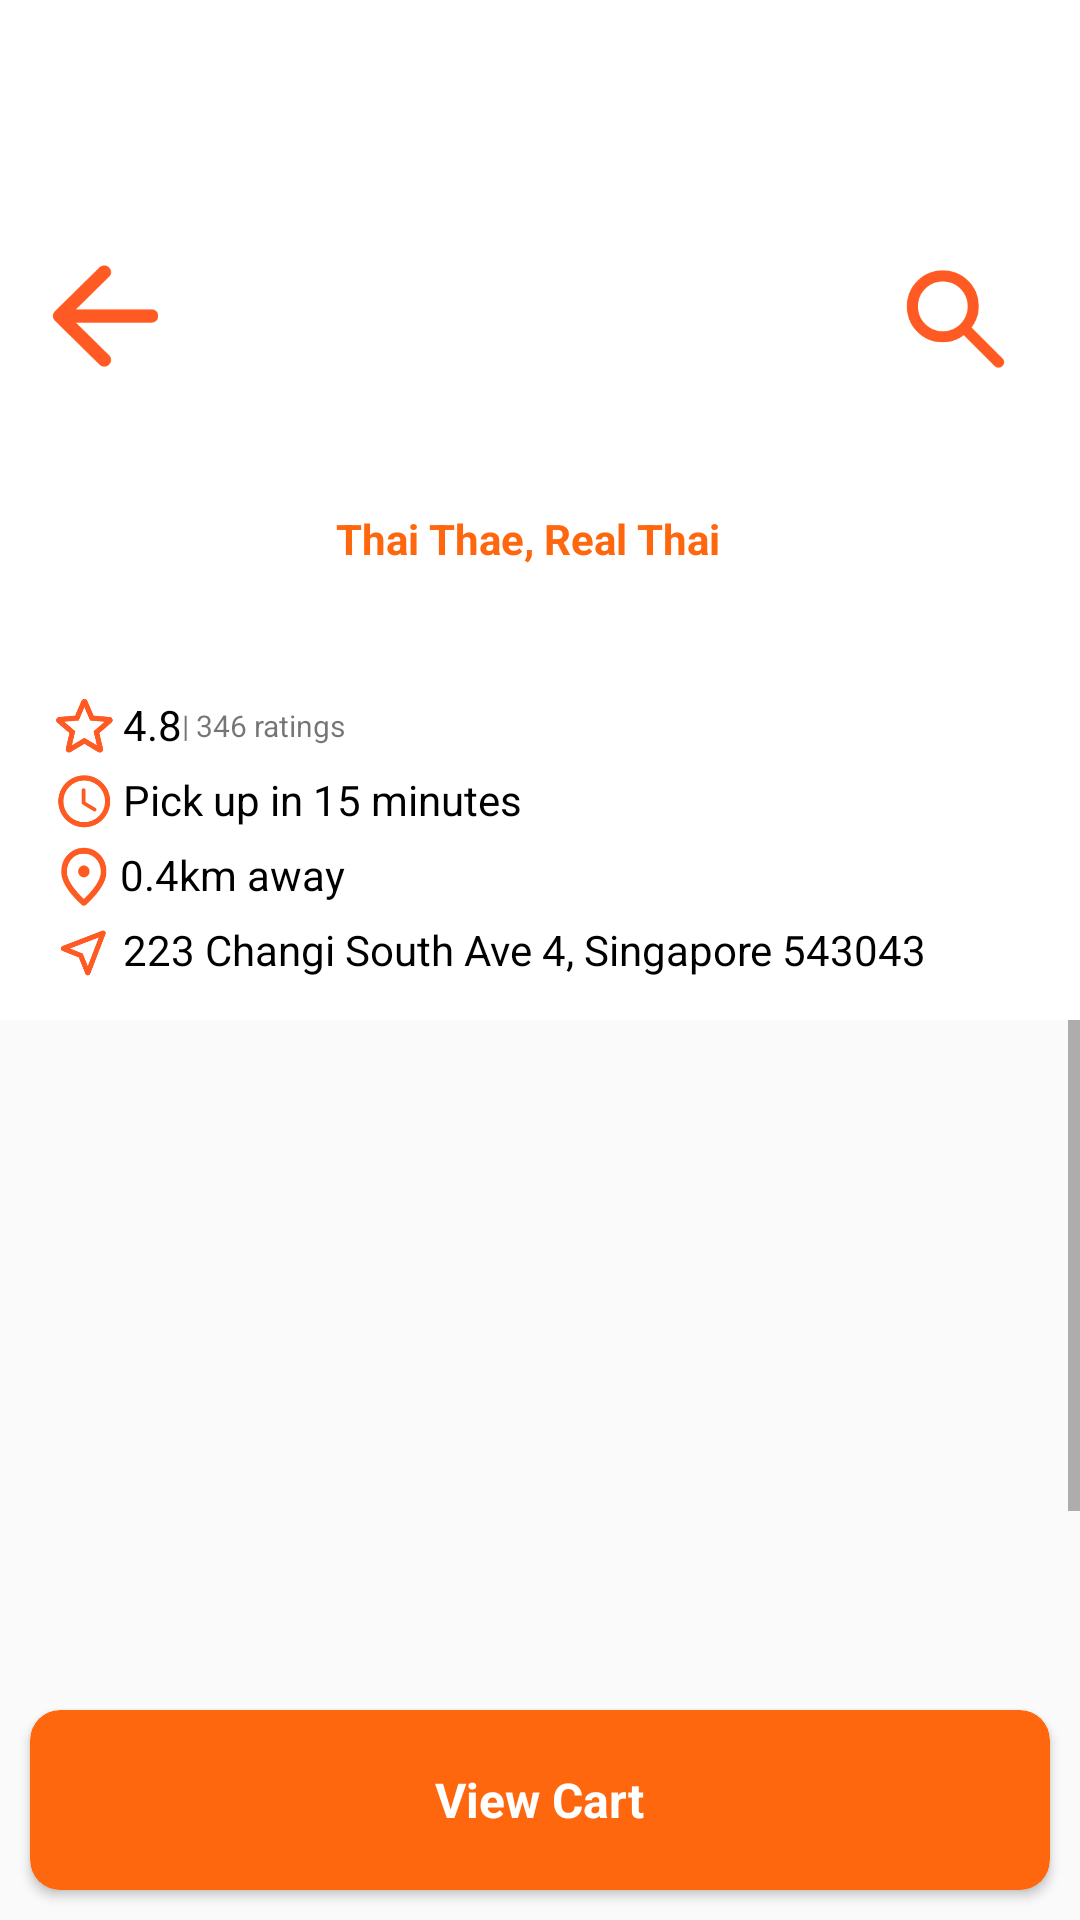

Icons on this 1080x1920 Android screen, each with its box as {"left": x1, "top": y1, "right": x2, "bottom": y2}:
arrow: {"left": 53, "top": 265, "right": 158, "bottom": 367}
duration: {"left": 58, "top": 775, "right": 111, "bottom": 828}
fav: {"left": 56, "top": 699, "right": 113, "bottom": 753}
search: {"left": 906, "top": 270, "right": 1005, "bottom": 368}
